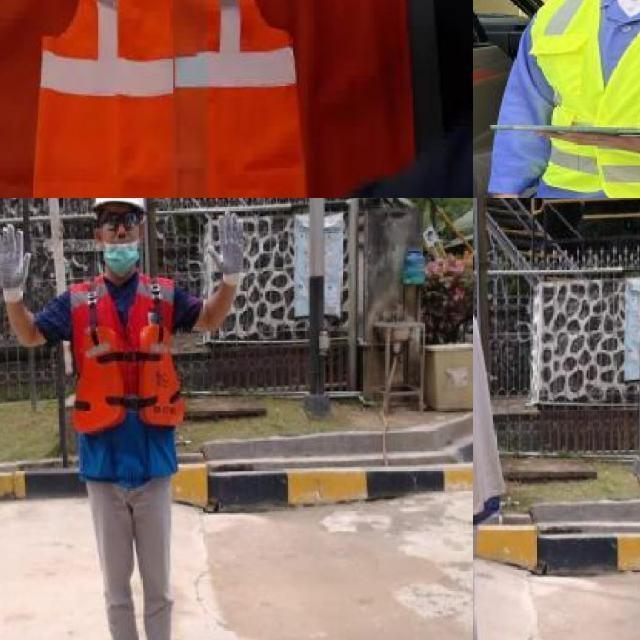apron: (207, 208, 246, 290), (0, 224, 31, 304)
